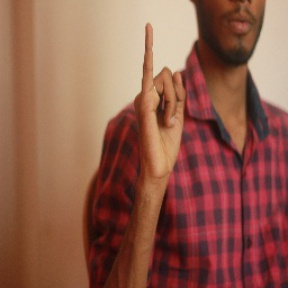I: (130, 20, 191, 172)
